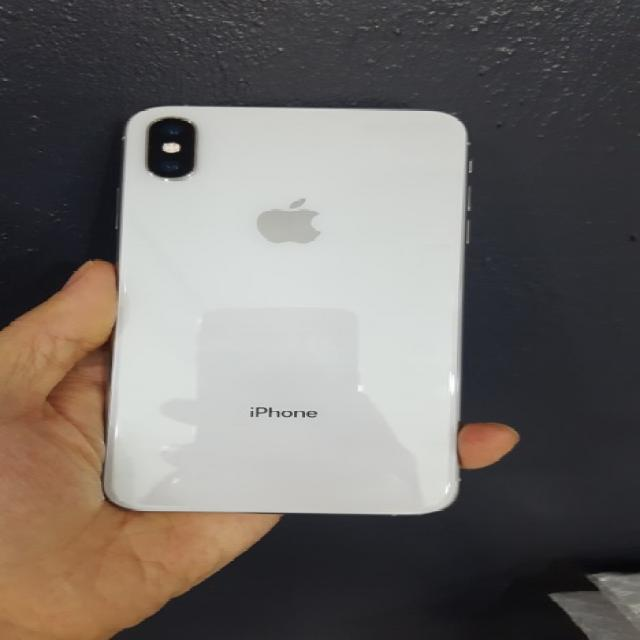phone: (102, 100, 468, 519)
